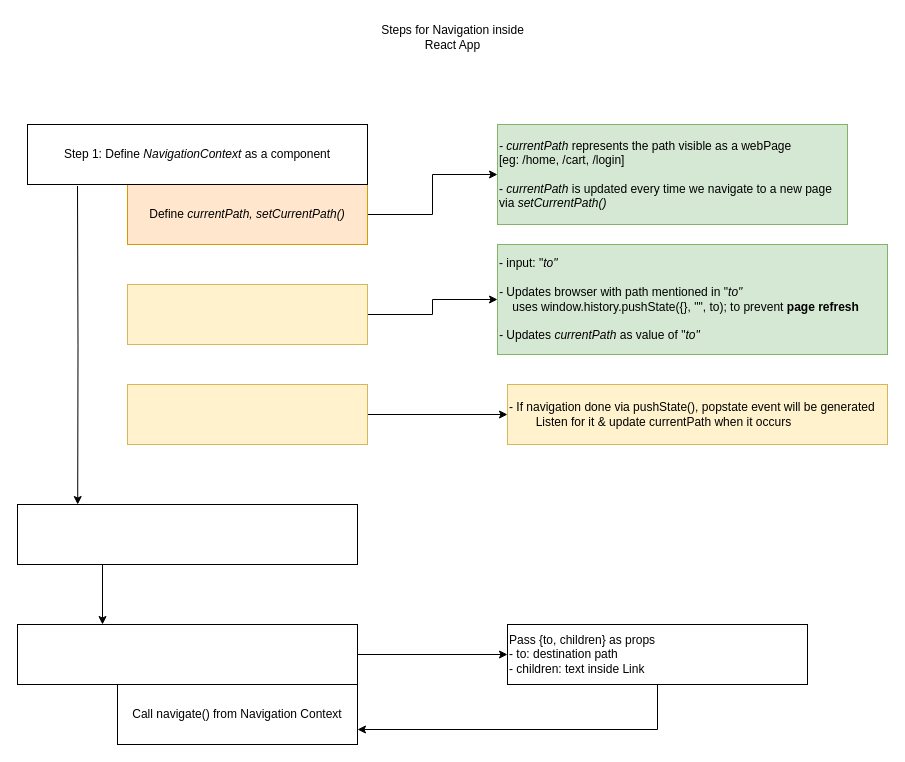
Image size: 905x762. Some labels were removed from this diagram. The shapes that lost their labels are listed below. From the top down, each one's box as (x1, y1, x2, y2) in pixels, then its label:
(126, 284, 368, 344): Define navigate()
(126, 384, 368, 444): Add eventListener for "popstate" inside useEffect
(16, 504, 358, 564): Step 2: Wrap App.js with NavigationProvider
(16, 624, 358, 684): Step 3: Create a custom Link component
